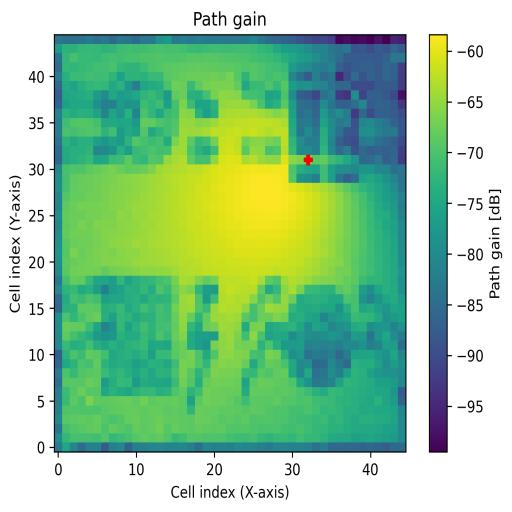Concrete: (289, 62, 360, 183)
Glass: (92, 64, 179, 164)
Metal: (290, 281, 352, 388)
Wood: (100, 275, 178, 397)
